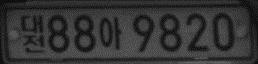0: (212, 11, 236, 51)
2: (184, 12, 210, 51)
8: (158, 12, 182, 52), (46, 14, 70, 53), (73, 14, 97, 53)
9: (132, 13, 155, 52)
대전_V: (19, 13, 45, 54)
아: (99, 16, 123, 51)
